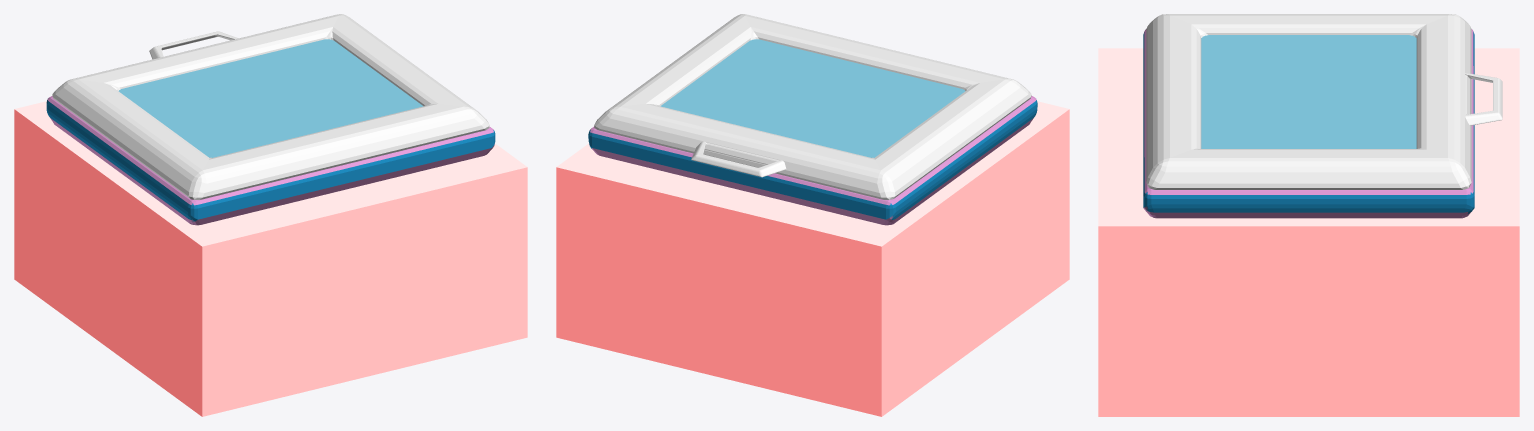
The model's file is Provider - Turkey.fbx.
3 views of the same model, side by side, from view 1: azimuth 30°, elevation 25°; view 2: azimuth 150°, elevation 25°; view 3: azimuth 270°, elevation 25° (orthographic). The views are drawn at different scales.
Visible parts, largest first — view 1: Block, Lid, Body, Handle; view 2: Block, Lid, Body, Handle; view 3: Block, Lid, Body, Handle.
Part boxes in pixels (left/top/right/bottom): Block: left=14, top=101, right=527, bottom=416; Lid: left=52, top=14, right=489, bottom=199; Body: left=46, top=96, right=495, bottom=225; Handle: left=149, top=31, right=238, bottom=59; Block: left=556, top=101, right=1069, bottom=416; Lid: left=594, top=14, right=1031, bottom=199; Body: left=588, top=96, right=1037, bottom=225; Handle: left=691, top=141, right=786, bottom=177; Block: left=1098, top=48, right=1519, bottom=416; Lid: left=1146, top=14, right=1471, bottom=189; Body: left=1143, top=29, right=1474, bottom=218; Handle: left=1465, top=73, right=1502, bottom=125.
Size of what is drawn, in the model's own units: 100 by 65.9 by 100.
